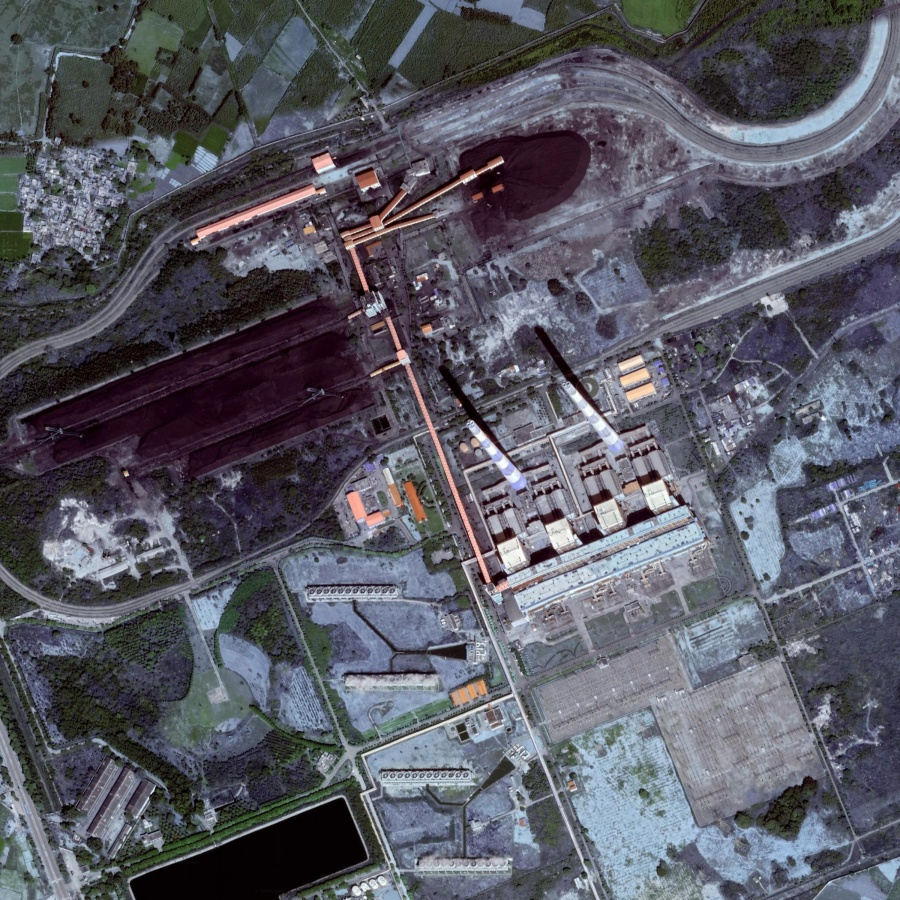PowerPlant: (428, 318, 665, 524)
